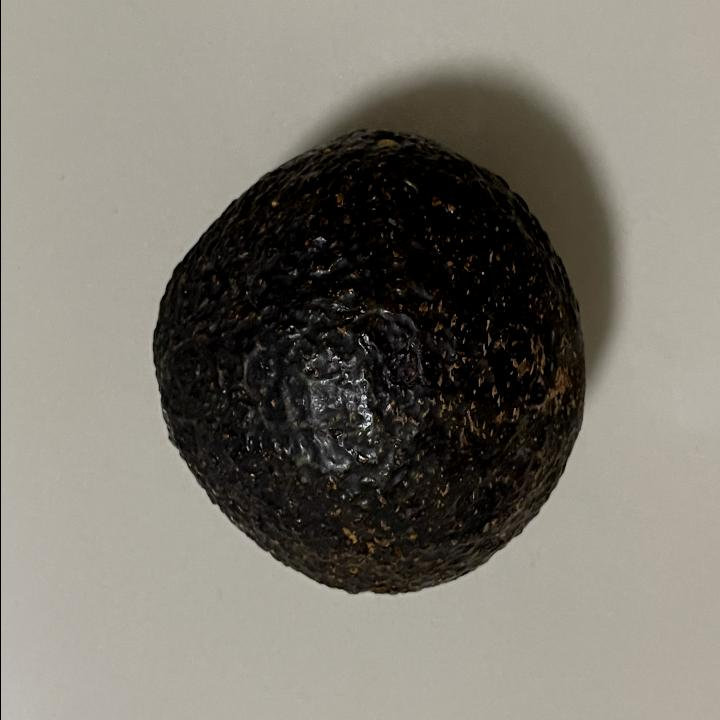Level2: (141, 119, 592, 605)
